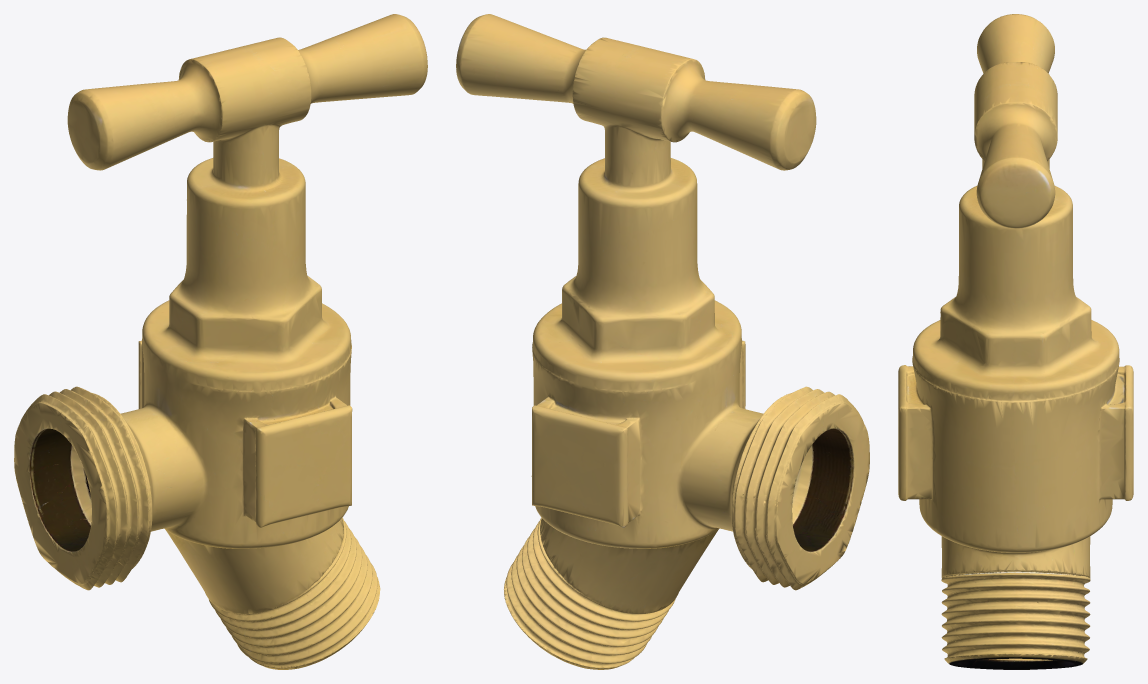
The picture shows the model from 3 angles, left to right: view 1: azimuth 30°, elevation 25°; view 2: azimuth 150°, elevation 25°; view 3: azimuth 270°, elevation 25°; orthographic projection. The views are drawn at different scales.
Size of the model in its own units: 1.14 by 1.9 by 0.6977.
Materials: 1 (1 with a texture image).
